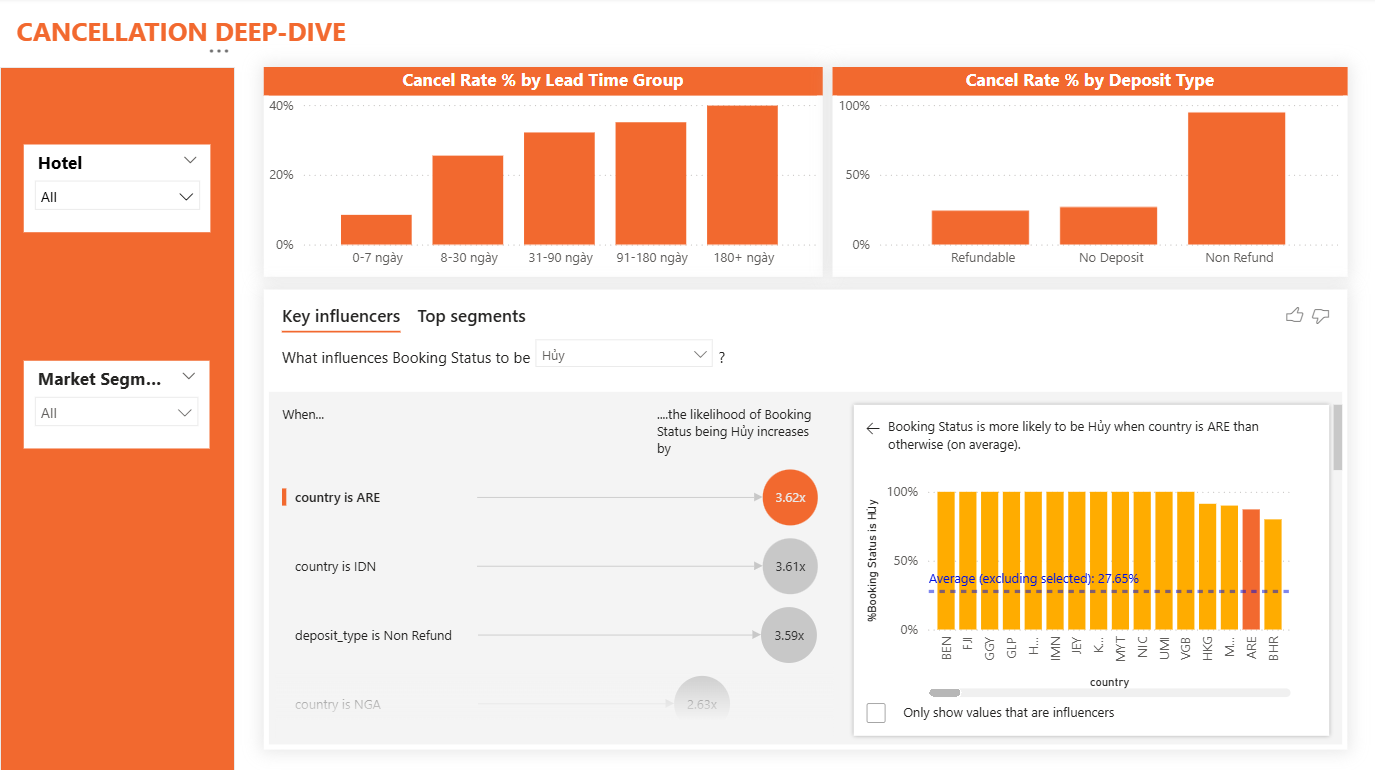

This screenshot's page, from the dashboard's own definition file:
{"tool":"powerbi","page":{"name":"Cancellation","canvas":[1280,720],"ordinal":1},"visuals":[{"type":"shape","box":[0,65,218.8,670],"z":0},{"type":"slicer","fields":{"Values":["vw_hotel_bookings.hotel"]},"box":[22.5,137.5,173.8,81.2],"z":1000},{"type":"slicer","fields":{"Values":["vw_hotel_bookings.market_segment"]},"box":[22.5,338.8,172.5,81.2],"z":2000},{"type":"textbox","box":[10,10.8,493.1,46.2],"z":5000},{"type":"clusteredColumnChart","fields":{"Y":["MeasureTable.Cancel Rate %"],"Category":["vw_hotel_bookings.Lead Time Group"]},"box":[245.3,65.1,519.8,195.3],"z":6000},{"type":"clusteredColumnChart","title":"Cancel Rate % by Deposit Type","fields":{"Y":["MeasureTable.Cancel Rate %"],"Category":["vw_hotel_bookings.deposit_type"]},"box":[774.4,65.1,479.1,195.3],"z":7000},{"type":"keyDriversVisual","fields":{"Target":["vw_hotel_bookings.Booking Status"],"ExplainBy":["vw_hotel_bookings.deposit_type","vw_hotel_bookings.Lead Time Group","vw_hotel_bookings.market_segment","vw_hotel_bookings.distribution_channel","vw_hotel_bookings.country"]},"box":[245.3,272.1,1008.1,427.9],"z":8001}]}

Visuals, with their boxes in screenshot pixels (x1, y1, x2, y2), scaled from the page's 1280x720 canvas onto the 1375x770 screenshot:
shape: region(0, 70, 235, 769)
slicer - vw_hotel_bookings.hotel: region(24, 147, 211, 234)
slicer - vw_hotel_bookings.market_segment: region(24, 362, 209, 449)
textbox: region(11, 12, 540, 61)
clusteredColumnChart - MeasureTable.Cancel Rate % x vw_hotel_bookings.Lead Time Group: region(264, 70, 822, 278)
"Cancel Rate % by Deposit Type" clusteredColumnChart: region(832, 70, 1347, 278)
keyDriversVisual - vw_hotel_bookings.Booking Status x vw_hotel_bookings.deposit_type: region(264, 291, 1346, 749)
